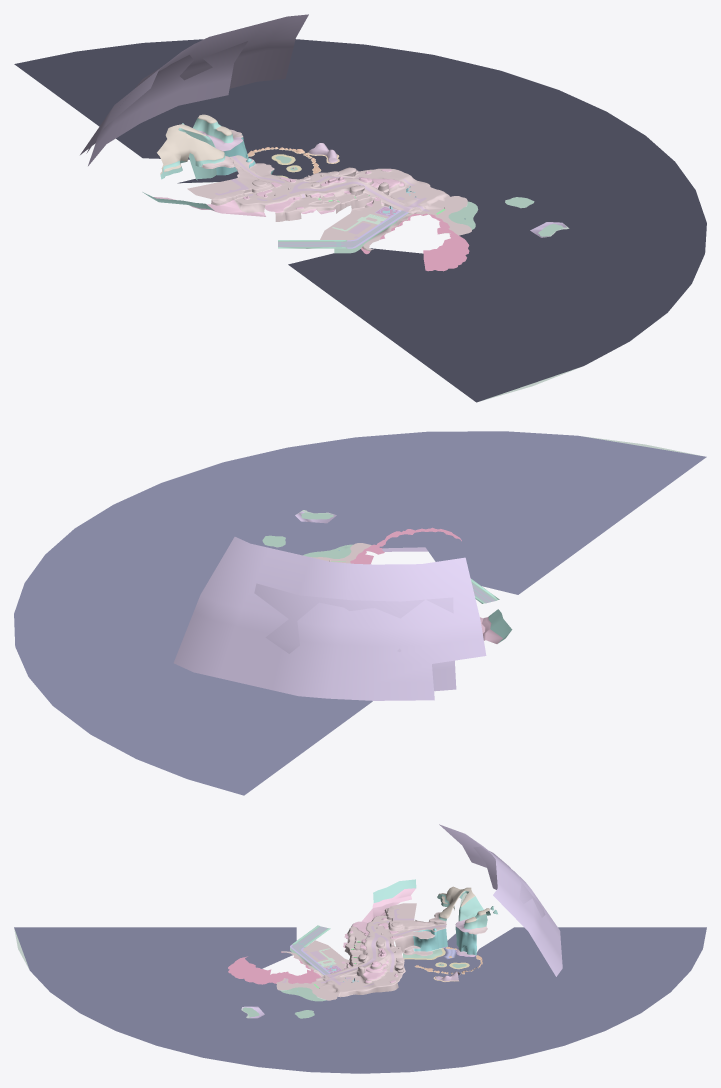
3 renders of one model, top to bottom at view 1: azimuth 30°, elevation 25°; view 2: azimuth 150°, elevation 25°; view 3: azimuth 270°, elevation 25°, orthographic. The views are drawn at different scales.
Parts seen in each view (by area): view 1: Base; view 2: Base; view 3: Base.
Boxes of the visible parts, x1=… form: Base: x1=14, y1=14, x2=706, y2=402; Base: x1=14, y1=431, x2=706, y2=795; Base: x1=14, y1=824, x2=706, y2=1073.
Size of the model in its own units: 34438 by 8218 by 56829.
